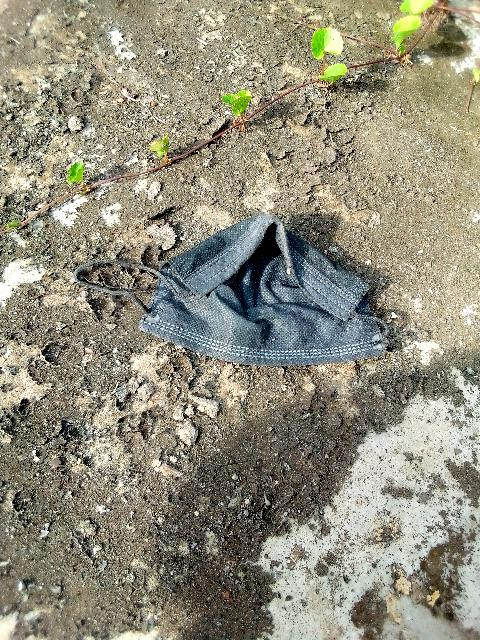mask: (172, 178, 359, 403)
